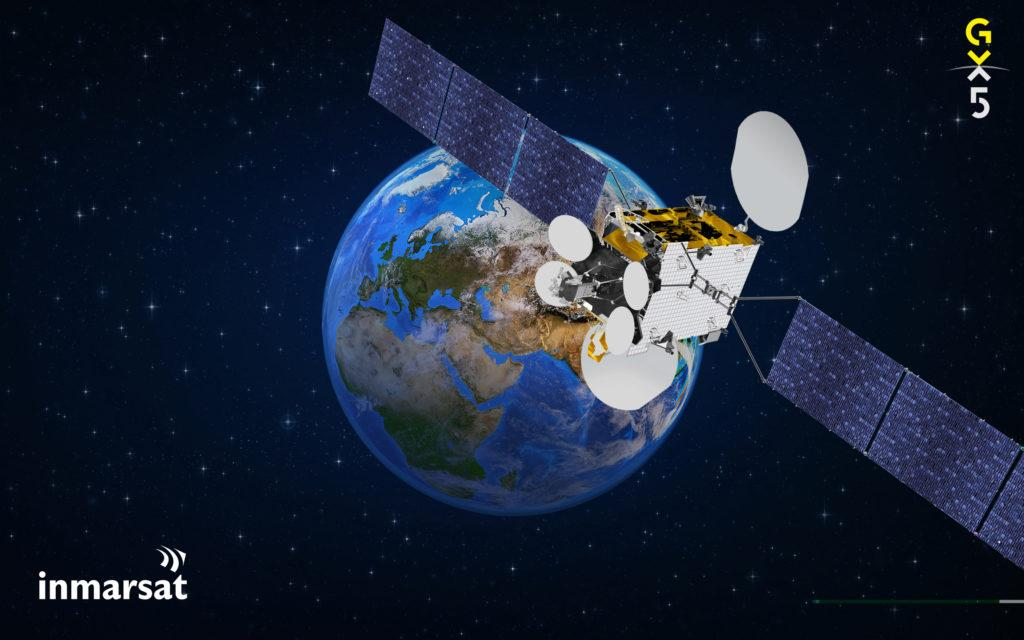antenna: (728, 108, 813, 233), (579, 318, 681, 413), (532, 261, 584, 309), (547, 212, 595, 263), (603, 307, 637, 360), (621, 260, 651, 313)
body: (570, 200, 764, 358)
solar: (760, 295, 1024, 574), (365, 16, 611, 233)
thruster: (684, 193, 698, 211)
